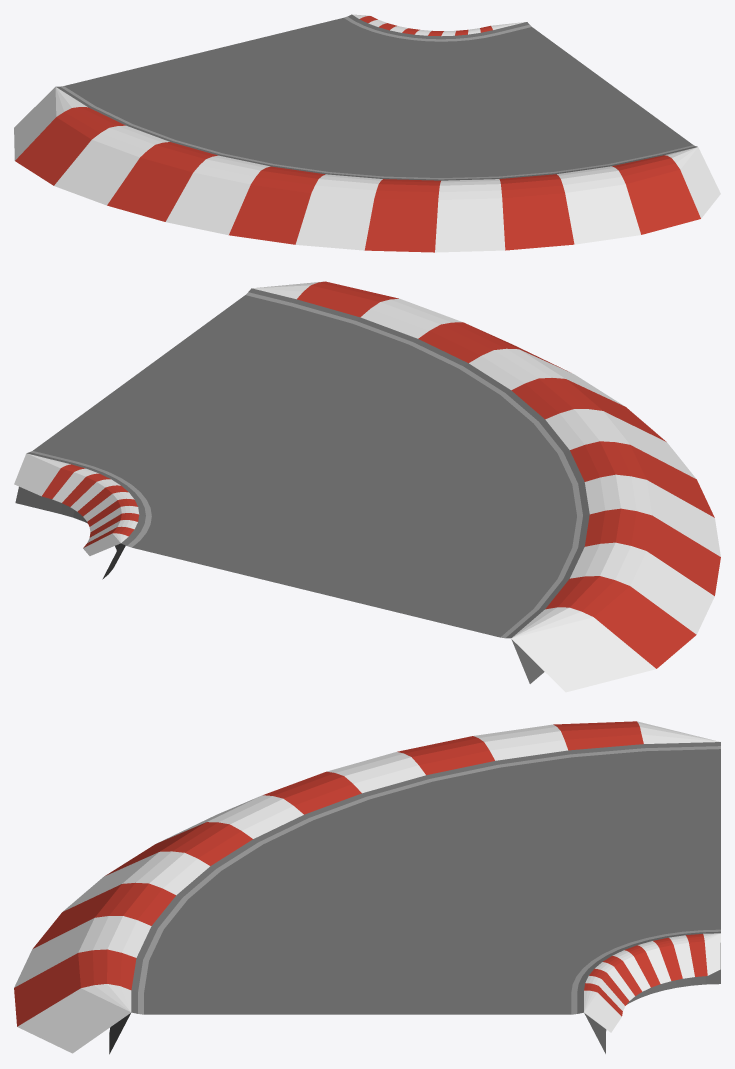
File: curve90Plate.fbx
3 renders of one model, top to bottom at view 1: azimuth 30°, elevation 25°; view 2: azimuth 150°, elevation 25°; view 3: azimuth 270°, elevation 25°, orthographic. The views are drawn at different scales.
Visible parts, largest first — view 1: curve90PlateRight; view 2: curve90PlateRight; view 3: curve90PlateRight.
Part boxes in pixels (box(x1,y1,x2,y2)): curve90PlateRight: box(14, 14, 720, 252); curve90PlateRight: box(14, 281, 720, 692); curve90PlateRight: box(14, 721, 720, 1054).
Bounding box in the file's own units: 1674 × 117 × 1562.
